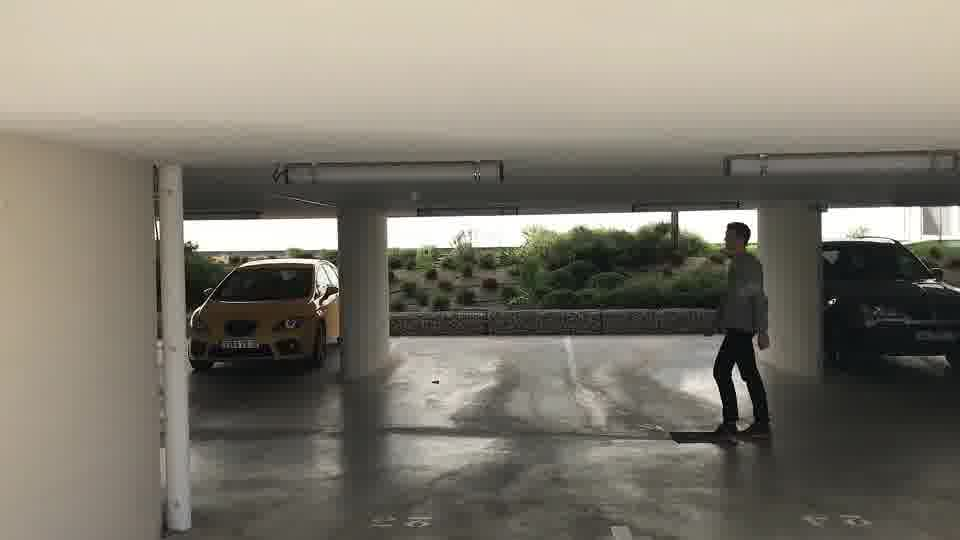jugador: (674, 221, 794, 451)
